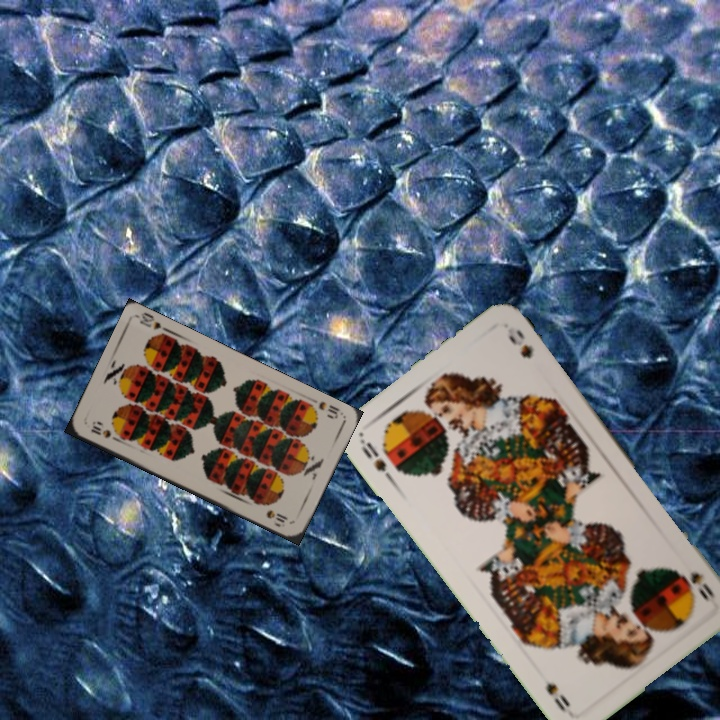S10: (87, 419, 122, 444), (314, 397, 342, 421)
SO: (355, 434, 396, 486), (686, 568, 718, 607)
